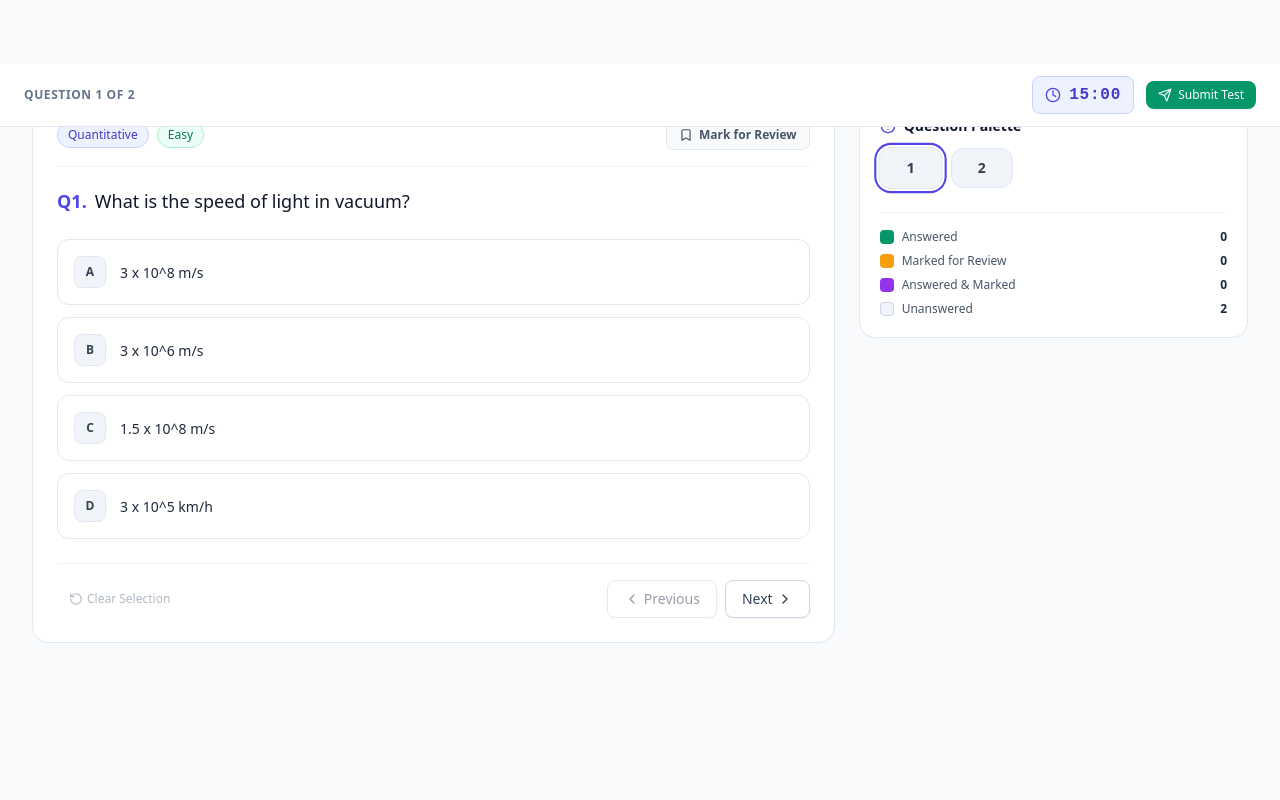
Test: Candidate Assessment UI Flow › Assessment Engine Reliability & Concurrency › prevents conflicting duplicate submissions on rapid double clicks
Later steps or results of the test are not shown.
Note: Open submit modal
Step 1. Click the button "Submit Test" → click(1201, 95), box [1146,81,1256,109]
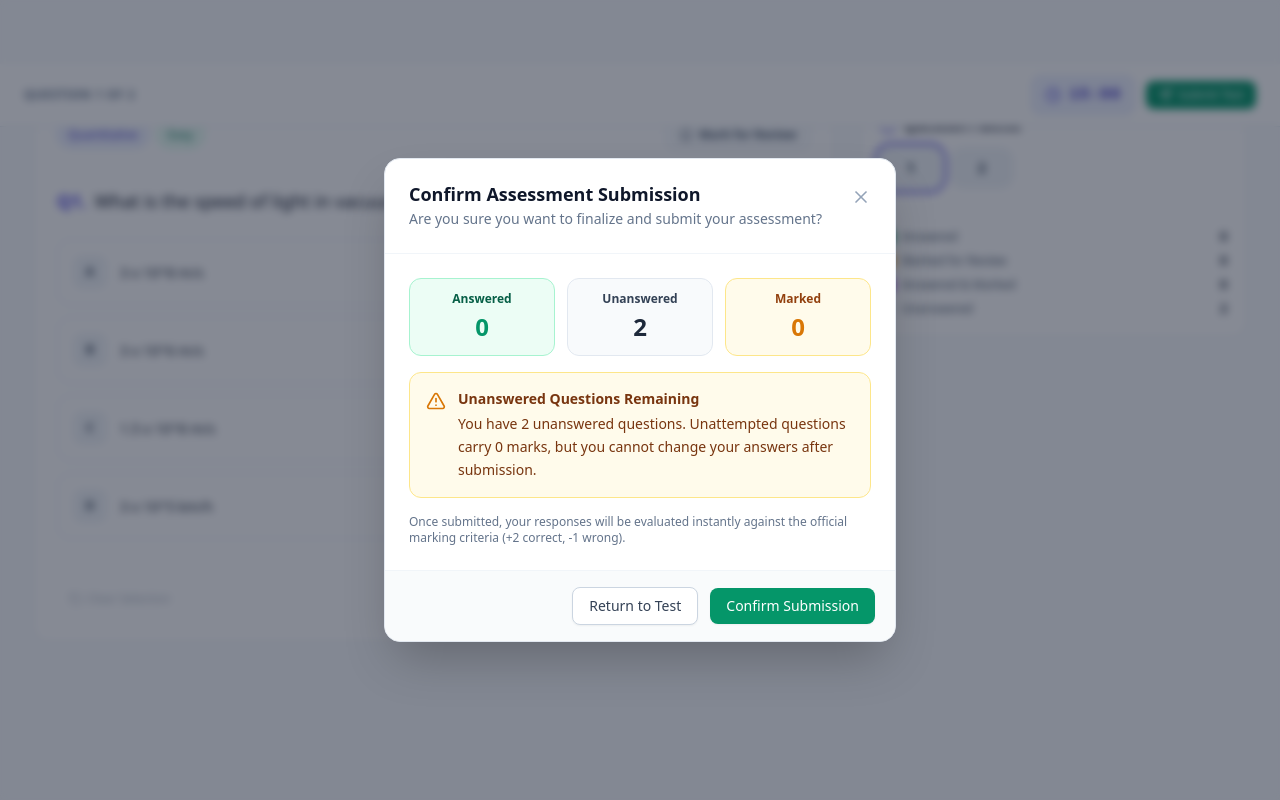
Check: the button "Confirm Submission" is shown, box [710,588,875,624]
